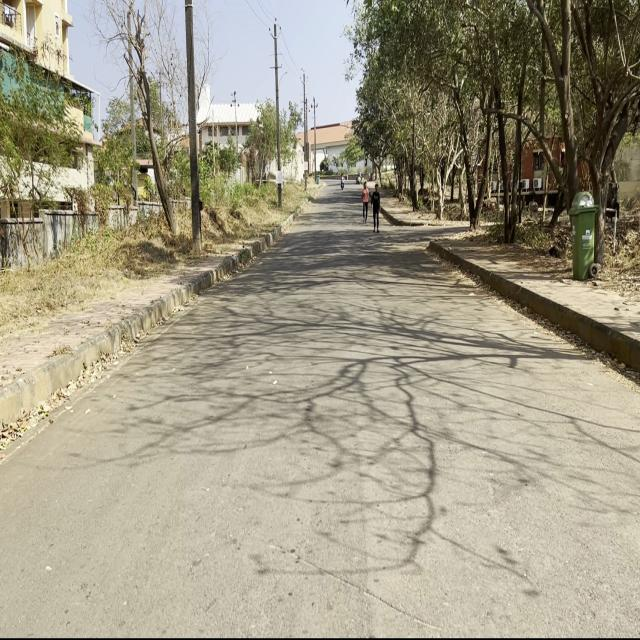Road: (6, 184, 636, 631)
